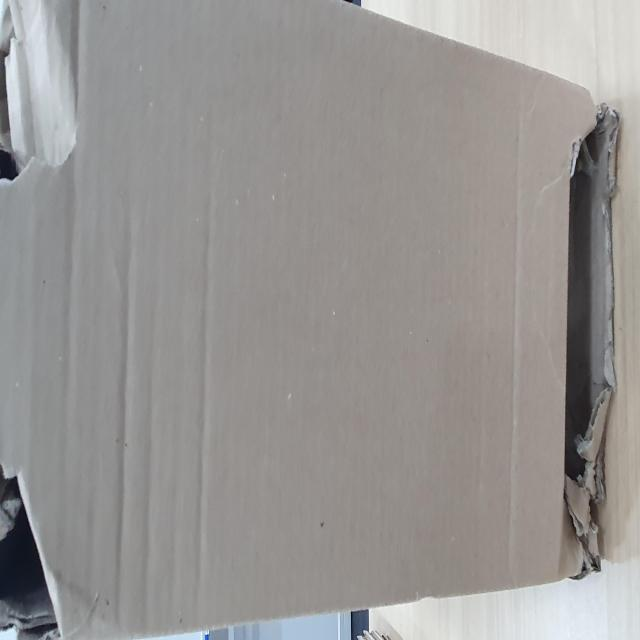damaged: (5, 3, 105, 106), (256, 0, 350, 55)
